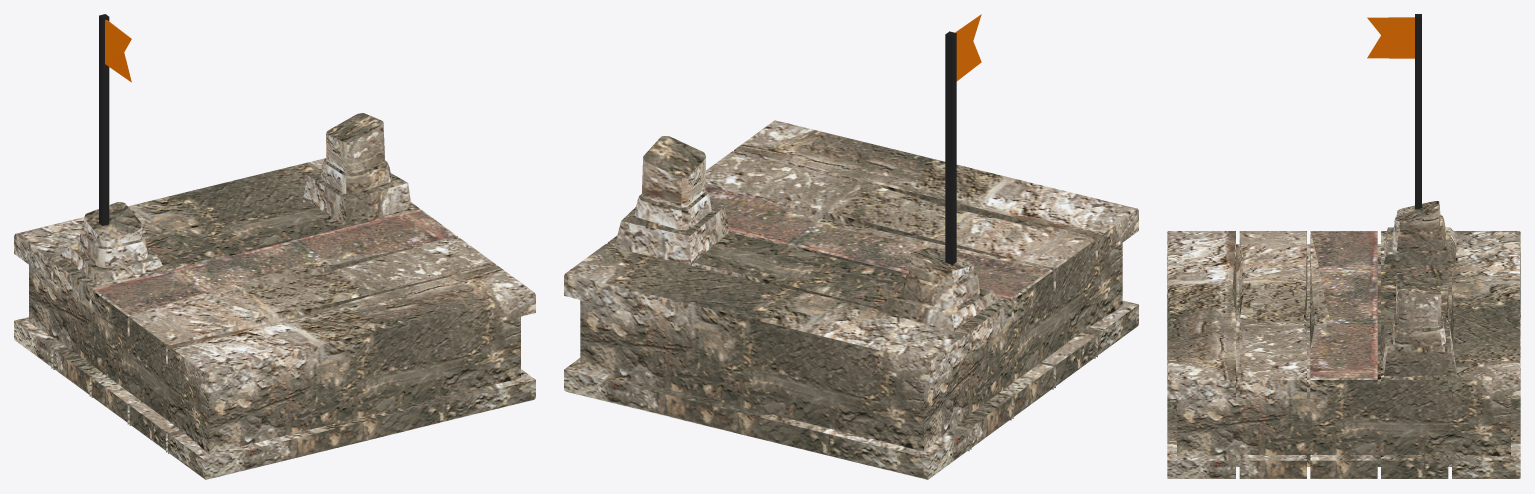
The model's file is Win Platform.gltf.
3 views of the same model, side by side, from view 1: azimuth 30°, elevation 25°; view 2: azimuth 150°, elevation 25°; view 3: azimuth 270°, elevation 25° (orthographic). The views are drawn at different scales.
Visible parts, largest first — view 1: platform-stone_rocherfin-hjar-fin_0, platform-stone_hjar-mid-fin_0, platform-stone_Material #2_0, platform-stone_pii-fin_0, platform-stone_flag-stone-fin_0; view 2: platform-stone_rocherfin-hjar-fin_0, platform-stone_hjar-mid-fin_0, platform-stone_Material #2_0, platform-stone_pii-fin_0, platform-stone_flag-stone-fin_0; view 3: platform-stone_rocherfin-hjar-fin_0, platform-stone_hjar-mid-fin_0, platform-stone_Material #2_0, platform-stone_flag-stone-fin_0, platform-stone_pii-fin_0.
Boxes of the visible parts, left/top/right/bottom form: platform-stone_rocherfin-hjar-fin_0: left=14, top=113, right=535, bottom=479; platform-stone_hjar-mid-fin_0: left=29, top=172, right=535, bottom=454; platform-stone_Material #2_0: left=94, top=209, right=455, bottom=315; platform-stone_pii-fin_0: left=99, top=14, right=109, bottom=225; platform-stone_flag-stone-fin_0: left=105, top=20, right=131, bottom=82; platform-stone_rocherfin-hjar-fin_0: left=564, top=120, right=1138, bottom=479; platform-stone_hjar-mid-fin_0: left=564, top=203, right=1122, bottom=451; platform-stone_Material #2_0: left=705, top=185, right=1049, bottom=298; platform-stone_pii-fin_0: left=945, top=31, right=956, bottom=264; platform-stone_flag-stone-fin_0: left=955, top=14, right=981, bottom=81; platform-stone_rocherfin-hjar-fin_0: left=1167, top=201, right=1520, bottom=466; platform-stone_hjar-mid-fin_0: left=1167, top=227, right=1520, bottom=478; platform-stone_Material #2_0: left=1310, top=231, right=1377, bottom=378; platform-stone_flag-stone-fin_0: left=1367, top=17, right=1414, bottom=58; platform-stone_pii-fin_0: left=1415, top=14, right=1421, bottom=209.
Bounding box in the file's own units: 197 × 203 × 197.
